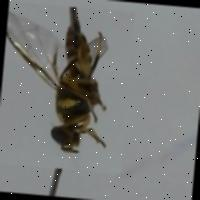Oriental-fruit-fly: (0, 2, 134, 174)
